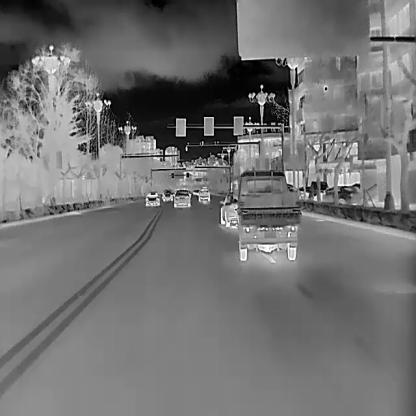car: (318, 185, 360, 203), (218, 191, 238, 228), (173, 188, 191, 208), (310, 180, 328, 196), (144, 190, 160, 206), (198, 187, 211, 201), (161, 188, 173, 202)
truck: (236, 168, 300, 261)
